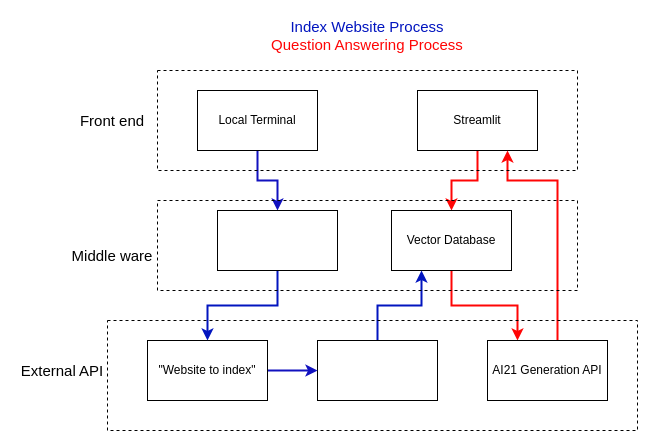
The diagram is 655 pixels wide and 448 high, and some of its shapes have lost their labels. The centre of each missing label's shape, as x and y in pixels:
"Cohere Embed API" goes at (377,370).
"Scraper" goes at (277,240).
